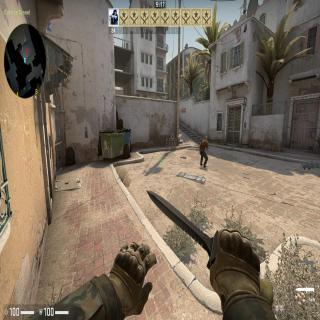T-Body: (199, 135, 209, 168)
T-Head: (205, 136, 208, 140)
